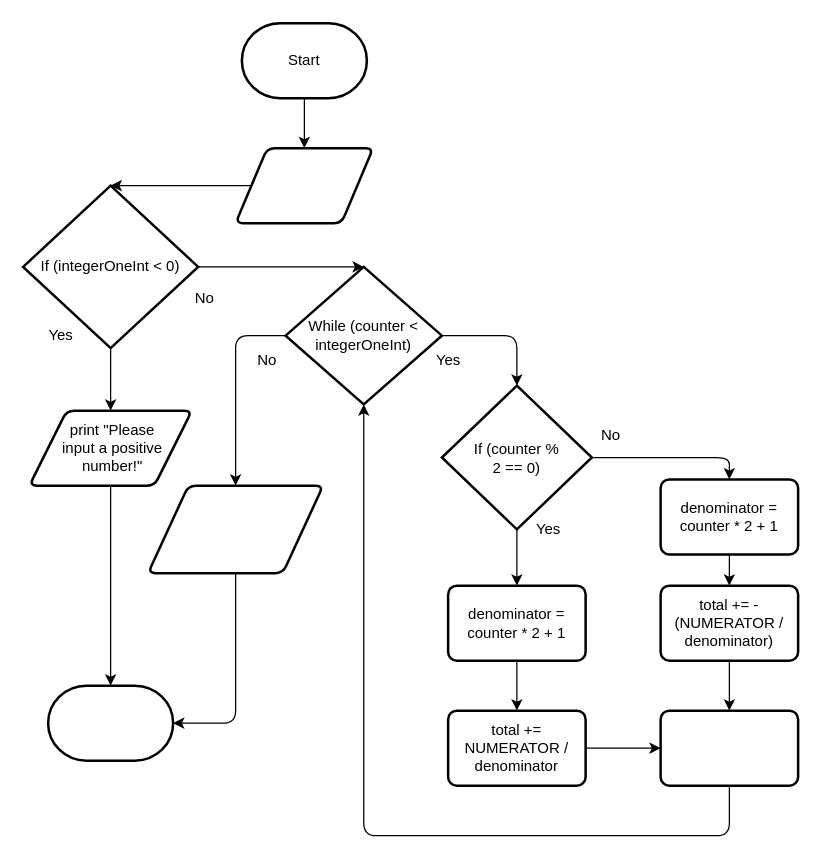
Some shapes in this 820 by 868 pixel diagram are drawn without their labels. The centre of each missing label's shape, as x and y in pixels:
counter++: point (729, 747)
Input positive integer: point (304, 185)
print "The number is + (total)": point (235, 529)
Stop: point (110, 722)
